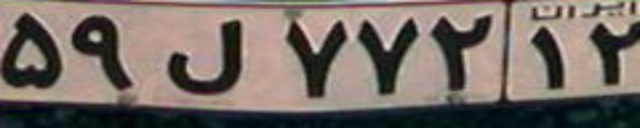1: (526, 23, 569, 89)
2: (428, 13, 491, 90), (584, 19, 639, 85)
5: (2, 11, 61, 88)
7: (279, 18, 349, 99), (356, 14, 423, 95)
9: (70, 12, 131, 91)
lam: (165, 18, 249, 95)
